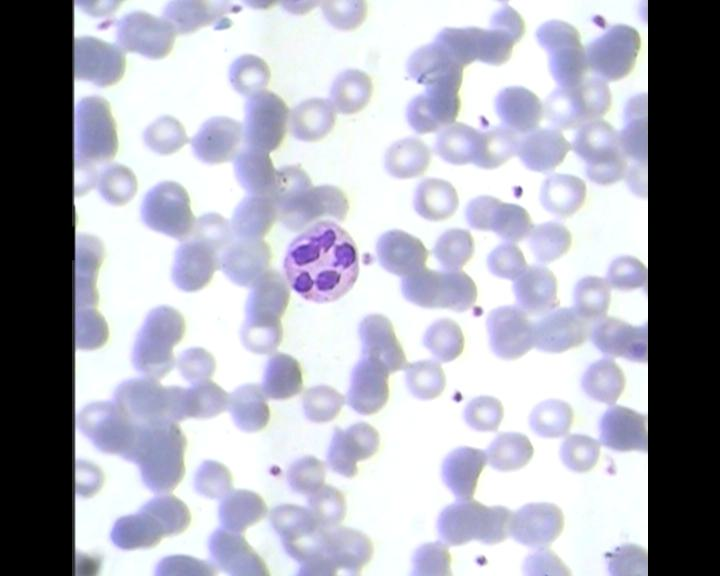neut: (280, 214, 365, 306)
